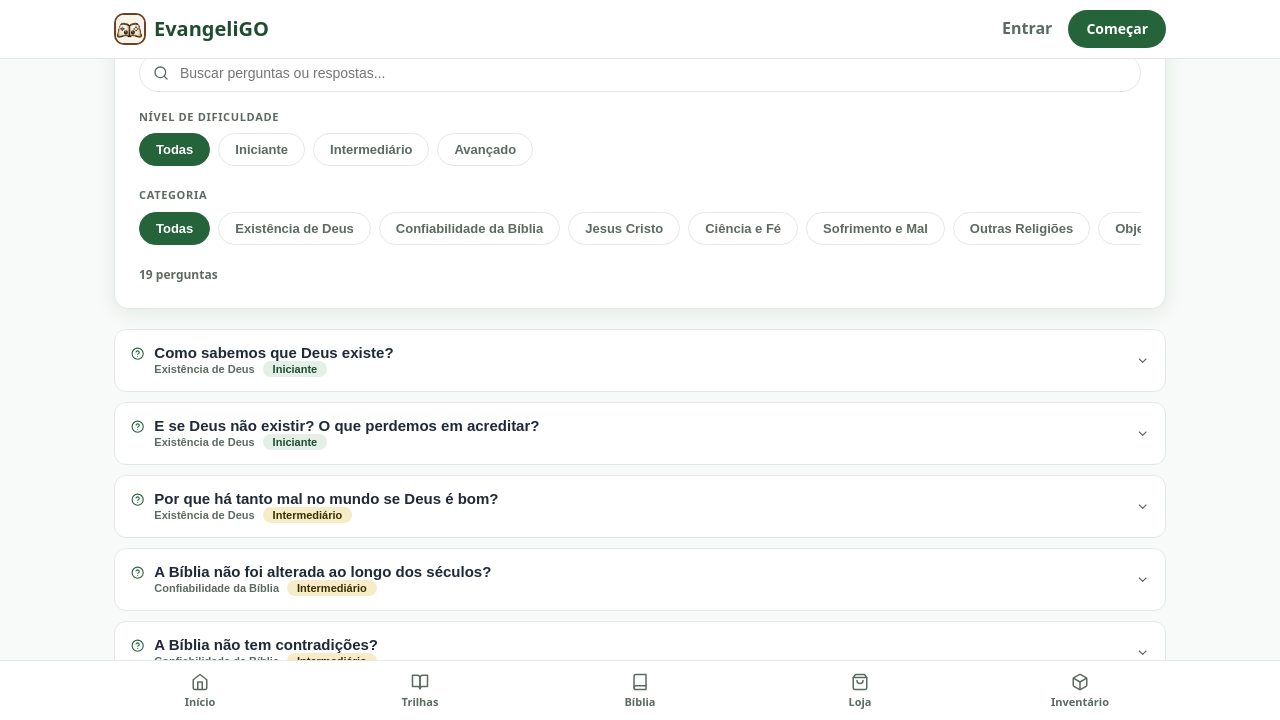
Test: ApologeticaPage › expande a pergunta ao clicar (accordion no lugar) e mostra resposta e referências
(page scrolled)
Click the button "Como sabemos que Deus existe? Existência de Deus Iniciante". click: (274, 353)
box: [115, 330, 1165, 391]
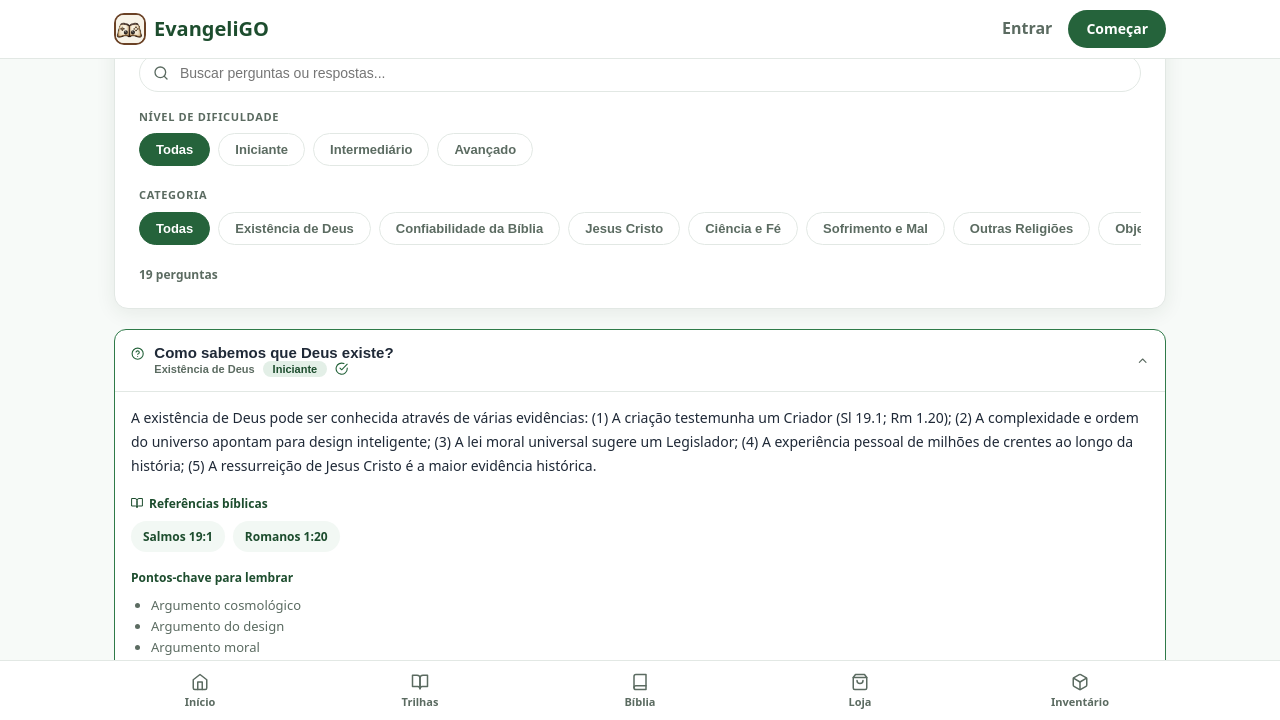
Now the button "Como sabemos que Deus existe? Existência de Deus Iniciante" is expanded
Now the list item "Salmos 19:1" is shown, box [131, 521, 225, 552]
Now the list item "Romanos 1:20" is shown, box [233, 521, 340, 552]
Click the button "Como sabemos que Deus existe? Existência de Deus Iniciante". click: (274, 353)
box: [115, 330, 1165, 391]
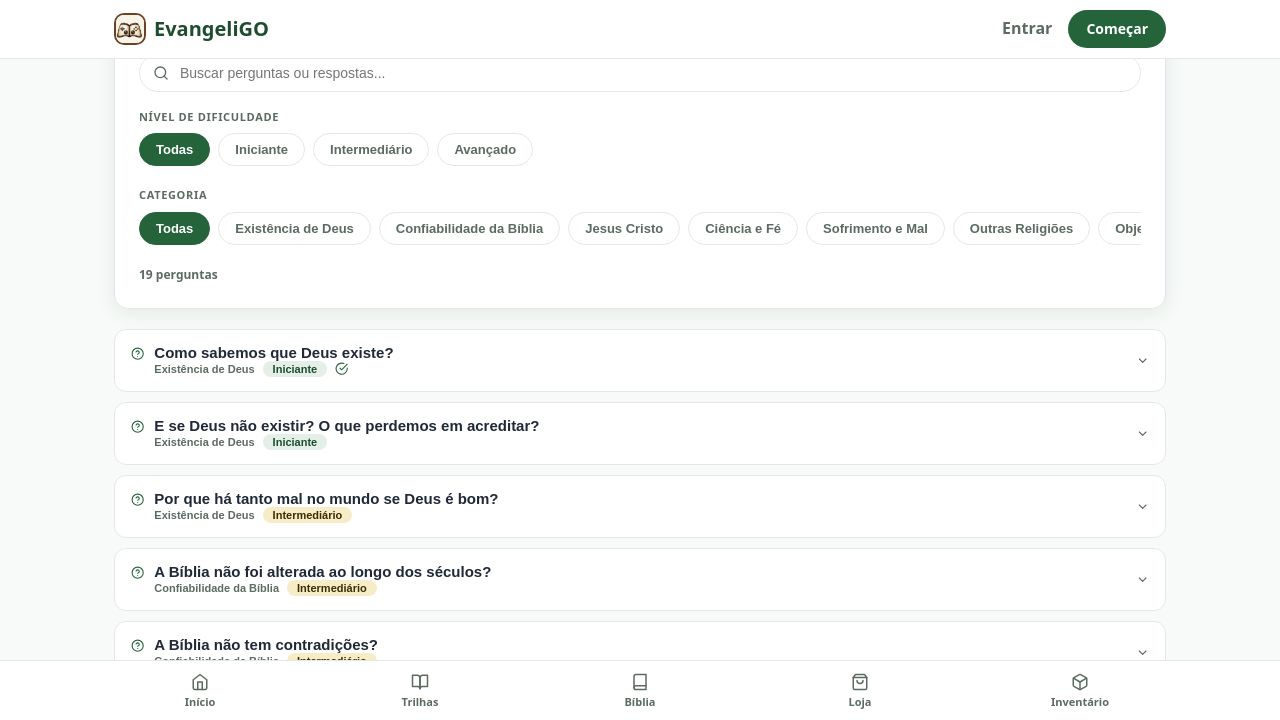
Now the button "Como sabemos que Deus existe? Existência de Deus Iniciante" is collapsed, box [115, 330, 1165, 391]
